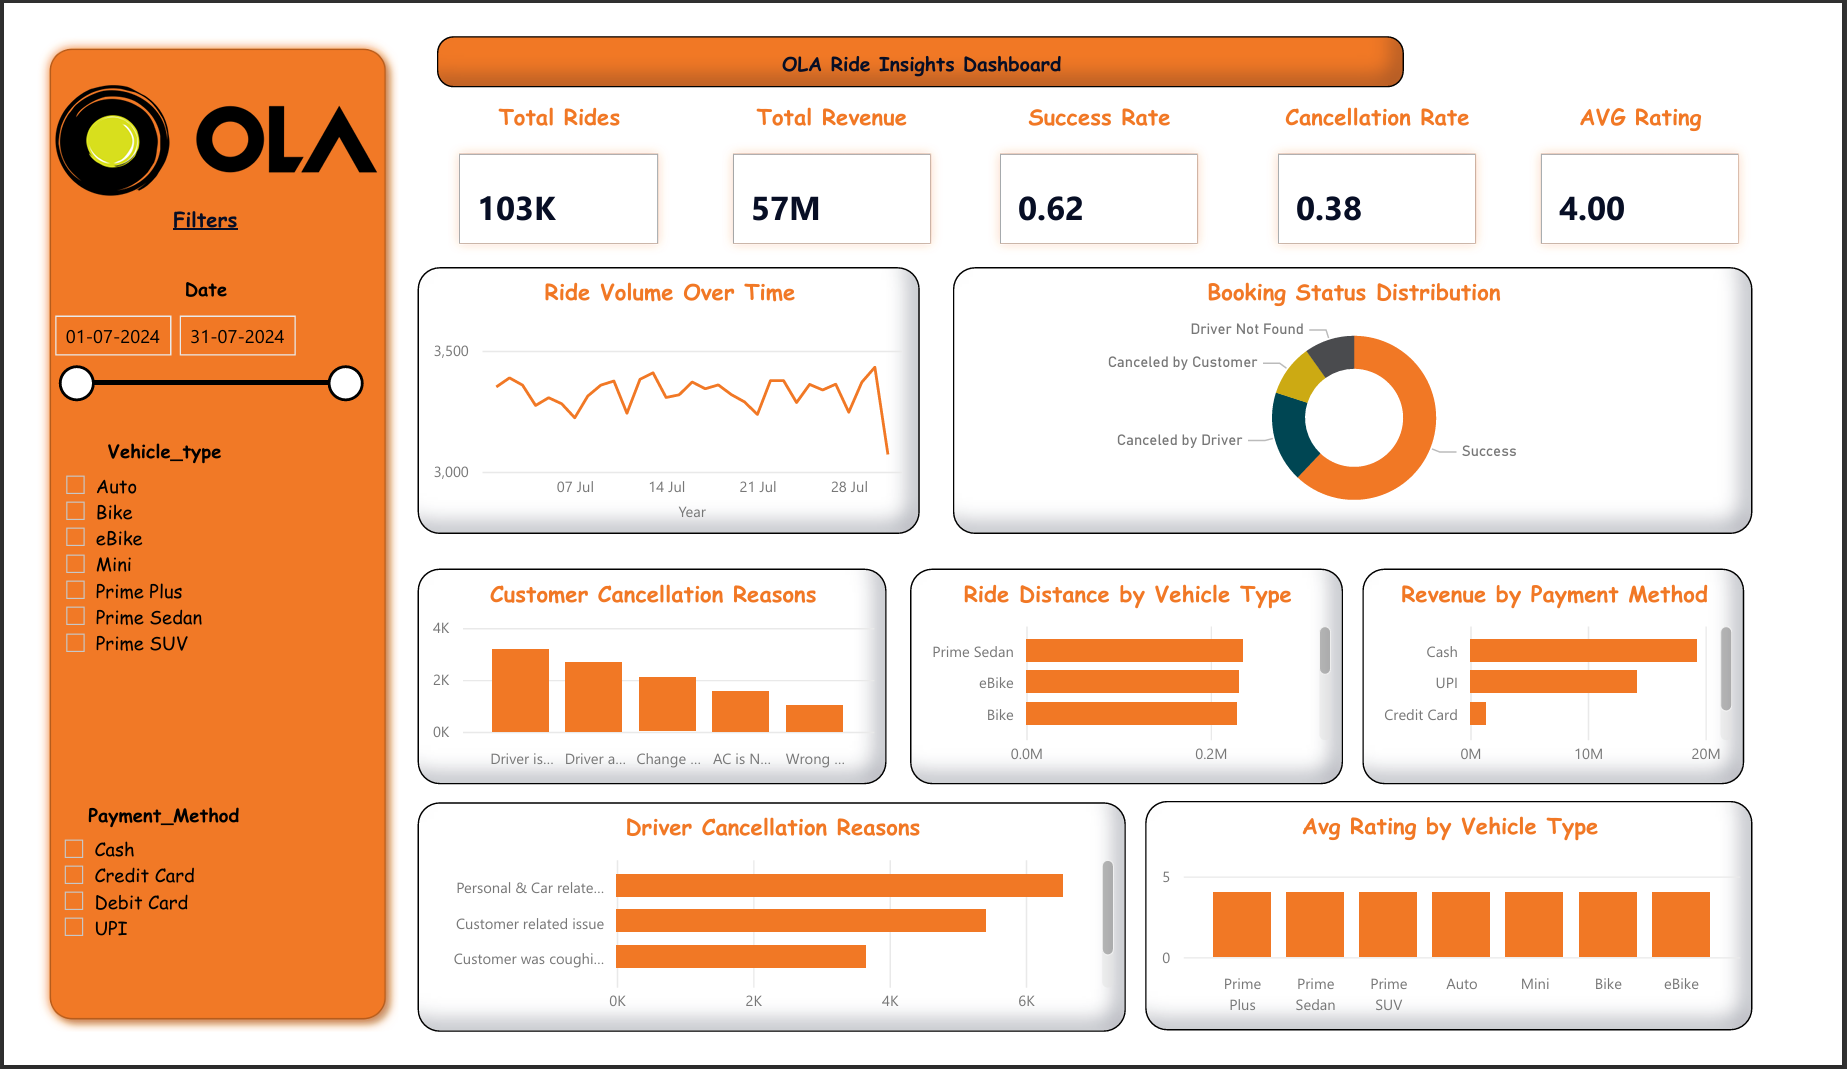

What the dashboard file says about the page in this screenshot:
{"tool":"powerbi","page":{"name":"Page 1","canvas":[1280,720],"ordinal":0},"visuals":[{"type":"shape","box":[0,0,260.7,720],"z":0},{"type":"cardVisual","title":"Total Rides","fields":{"Data":["OLA_DataSet.Total Rides"]},"box":[289.1,46.1,176.5,120.6],"z":1000},{"type":"cardVisual","title":"Total Revenue","fields":{"Data":["OLA_DataSet.Total Revenue"]},"box":[486.8,46.1,175.6,120.6],"z":2000},{"type":"cardVisual","title":"Success Rate","fields":{"Data":["OLA_DataSet.Success Rate"]},"box":[680.1,46.1,175.6,120.6],"z":3000},{"type":"cardVisual","title":"Cancellation Rate","fields":{"Data":["OLA_DataSet.Cancellation Rate"]},"box":[881.4,46.1,175.6,120.6],"z":4000},{"type":"cardVisual","title":"AVG Rating","fields":{"Data":["OLA_DataSet.Avg Rating"]},"box":[1071.1,46.1,175.6,120.6],"z":5000},{"type":"lineChart","title":"Ride Volume Over Time","fields":{"Y":["CountNonNull(OLA_DataSet.Booking_ID)"],"Category":["OLA_DataSet.Date.Variation.Date Hierarchy.Year","OLA_DataSet.Date.Variation.Date Hierarchy.Quarter","OLA_DataSet.Date.Variation.Date Hierarchy.Month","OLA_DataSet.Date.Variation.Date Hierarchy.Day"]},"box":[274.9,166.7,363.5,193.3],"z":6000},{"type":"donutChart","title":"Booking Status Distribution","fields":{"Category":["OLA_DataSet.Booking_Status"],"Y":["CountNonNull(OLA_DataSet.Booking_ID)"]},"box":[662.4,166.7,578.1,193.3],"z":7000},{"type":"clusteredBarChart","title":"Ride Distance by Vehicle Type","fields":{"Category":["OLA_DataSet.Vehicle_Type"],"Y":["Sum(OLA_DataSet.Ride_Distance)"]},"box":[631.3,384.8,313,156.1],"z":8000},{"type":"clusteredBarChart","title":"Revenue by Payment Method","fields":{"Category":["OLA_DataSet.Payment_Method"],"Y":["Sum(OLA_DataSet.Booking_Value)"]},"box":[957.6,384.8,276.7,156.1],"z":9000},{"type":"clusteredColumnChart","title":"Customer Cancellation Reasons","fields":{"Category":["OLA_DataSet.Canceled_Rides_by_Customer"],"Y":["CountNonNull(OLA_DataSet.Booking_ID)"]},"box":[274.9,384.8,338.7,156.1],"z":10000},{"type":"clusteredBarChart","title":"Driver Cancellation Reasons","fields":{"Category":["OLA_DataSet.Canceled_Rides_by_Driver"],"Y":["CountNonNull(OLA_DataSet.Booking_ID)"]},"box":[274.9,554.2,511.6,165.8],"z":11000},{"type":"clusteredColumnChart","title":"Avg Rating by Vehicle Type","fields":{"Category":["OLA_DataSet.Vehicle_Type"],"Y":["Avg(OLA_DataSet.Customer_Rating)"]},"box":[800.7,553.3,439.8,165.8],"z":12000},{"type":"textbox","box":[289.1,0,698.7,37.2],"z":13000},{"type":"slicer","title":"Date","fields":{"Values":["OLA_DataSet.Date"]},"box":[0,172.9,243.8,117],"z":14000},{"type":"slicer","title":"Vehicle_type","fields":{"Values":["OLA_DataSet.Vehicle_Type"]},"box":[8,290,167.6,250.9],"z":15000},{"type":"slicer","title":"Payment_Method","fields":{"Values":["OLA_DataSet.Payment_Method"]},"box":[7.1,553.3,168.5,166.7],"z":16000},{"type":"image","box":[7.1,0.9,244.7,149],"z":17000},{"type":"textbox","box":[27.5,117,188.9,40.8],"z":18000}]}

Visuals, with their boxes in screenshot pixels (x1, y1, x2, y2), scaled from the page's 1280x720 canvas onto the 1847x1069 screenshot:
shape: <box>0,0,376,1068</box>
"Total Rides" cardVisual: <box>417,68,672,248</box>
"Total Revenue" cardVisual: <box>702,68,956,248</box>
"Success Rate" cardVisual: <box>981,68,1235,248</box>
"Cancellation Rate" cardVisual: <box>1272,68,1525,248</box>
"AVG Rating" cardVisual: <box>1546,68,1799,248</box>
"Ride Volume Over Time" lineChart: <box>397,248,921,534</box>
"Booking Status Distribution" donutChart: <box>956,248,1790,534</box>
"Ride Distance by Vehicle Type" clusteredBarChart: <box>911,571,1363,803</box>
"Revenue by Payment Method" clusteredBarChart: <box>1382,571,1781,803</box>
"Customer Cancellation Reasons" clusteredColumnChart: <box>397,571,885,803</box>
"Driver Cancellation Reasons" clusteredBarChart: <box>397,823,1135,1068</box>
"Avg Rating by Vehicle Type" clusteredColumnChart: <box>1155,821,1790,1068</box>
textbox: <box>417,0,1425,55</box>
"Date" slicer: <box>0,257,352,430</box>
"Vehicle_type" slicer: <box>12,431,253,803</box>
"Payment_Method" slicer: <box>10,821,253,1068</box>
image: <box>10,1,363,223</box>
textbox: <box>40,174,312,234</box>
